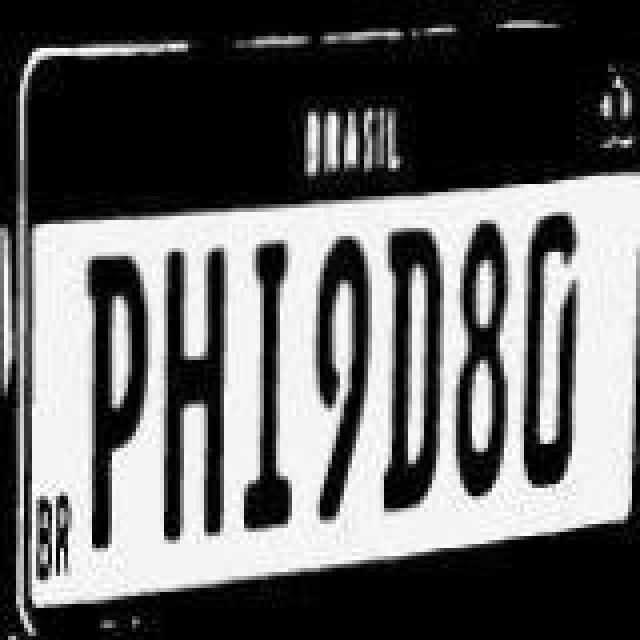8: (442, 232, 506, 500)
9: (310, 242, 382, 522)
D: (368, 228, 444, 512), (522, 214, 586, 498)
H: (142, 254, 230, 542)
I: (232, 248, 300, 532)
P: (82, 254, 146, 546)
